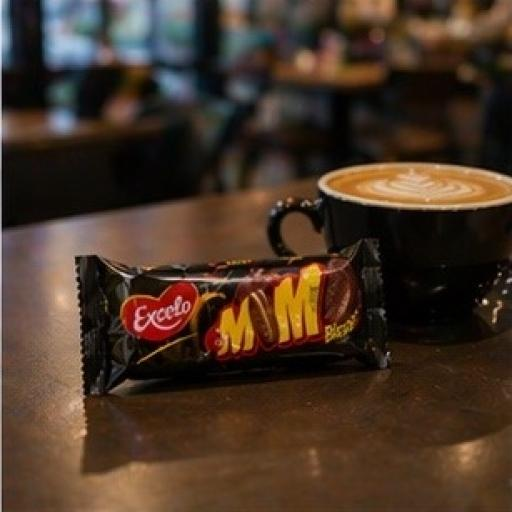MOMO: (34, 191, 446, 433)
